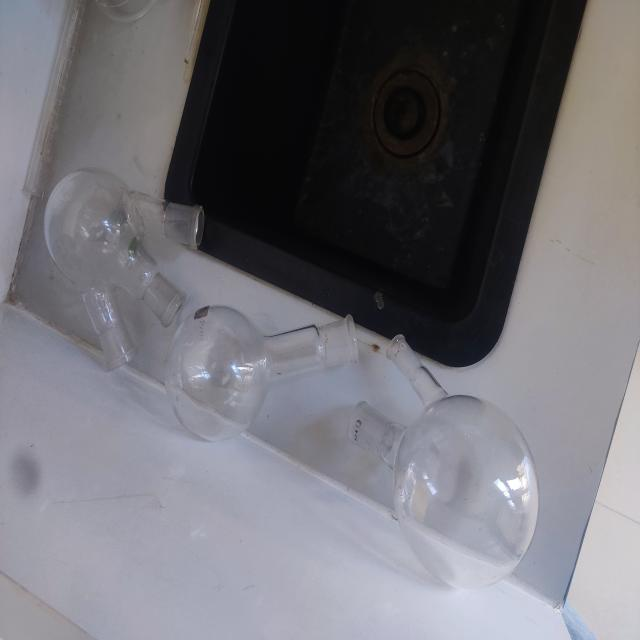Round_Bottom_Flask_Borosilicate_Glass_1_Neck: (144, 267, 368, 454)
Round_Bottom_Flask_Borosilicate_Glass_2_Neck: (308, 310, 572, 618)
Round_Bottom_Flask_Borosilicate_Glass_3_Neck: (0, 103, 217, 381)
